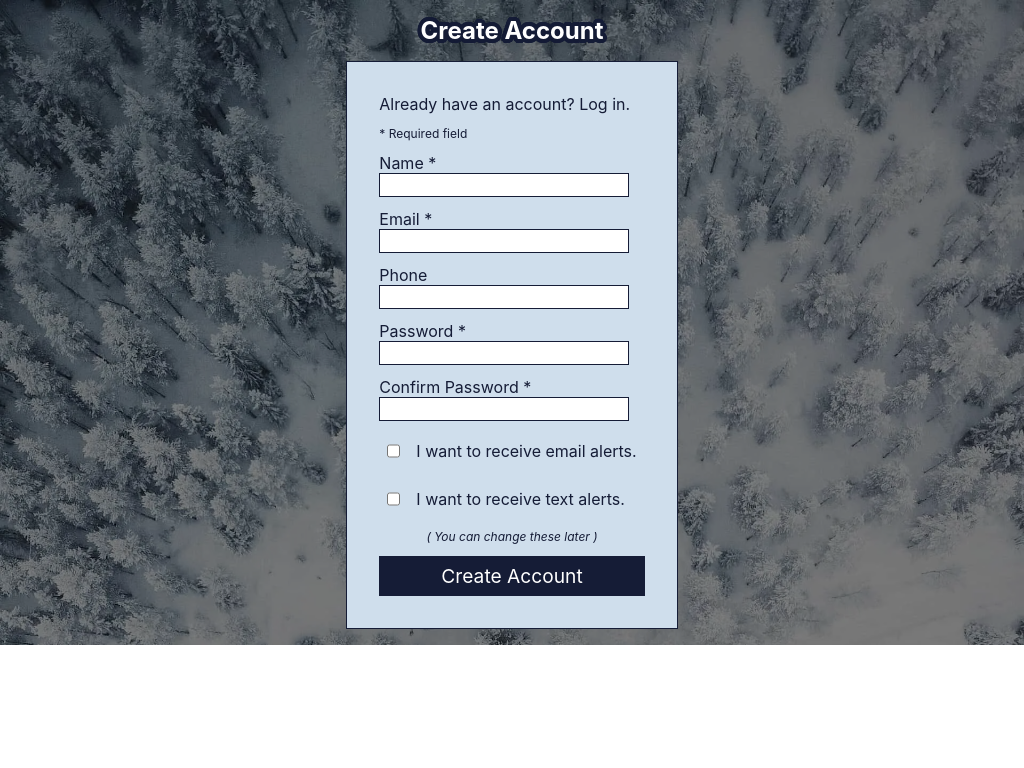
it: Displays name validation error properly
The width and height of the screenshot is (1024, 768).
Expected: the text "Enter your first name." is not shown
Click the field labelled "Name".
click(504, 185)  # box [379,173,629,197]
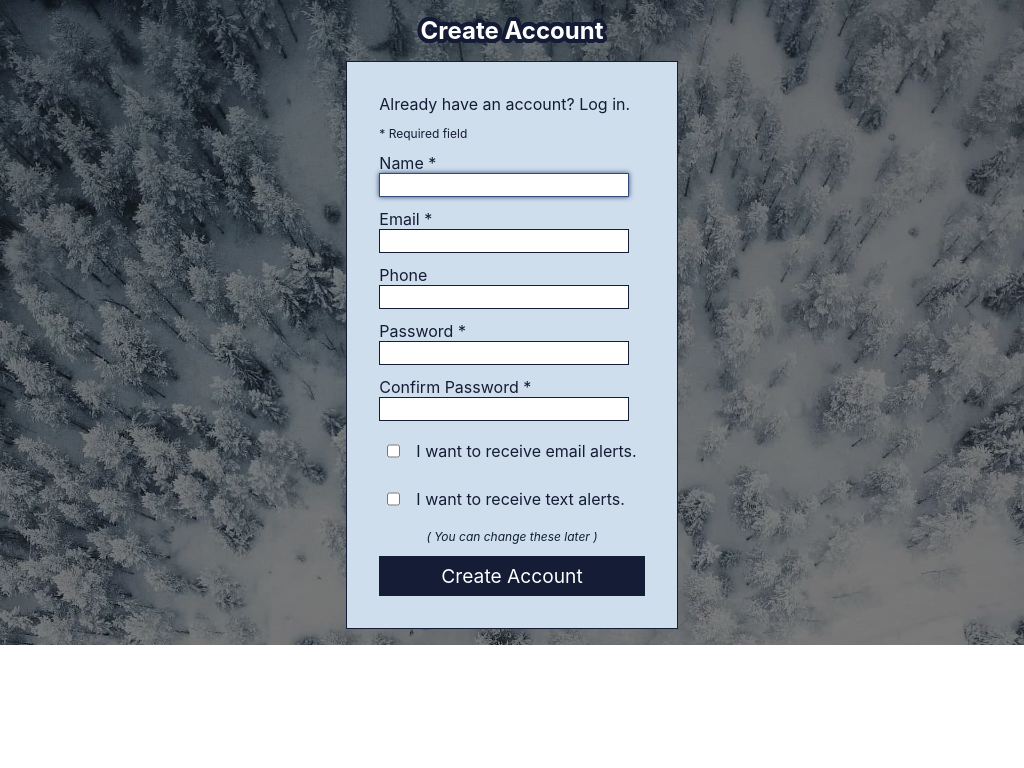
Click the element that starts with "Create Account".
click(512, 384)  # box [0,0,1023,767]
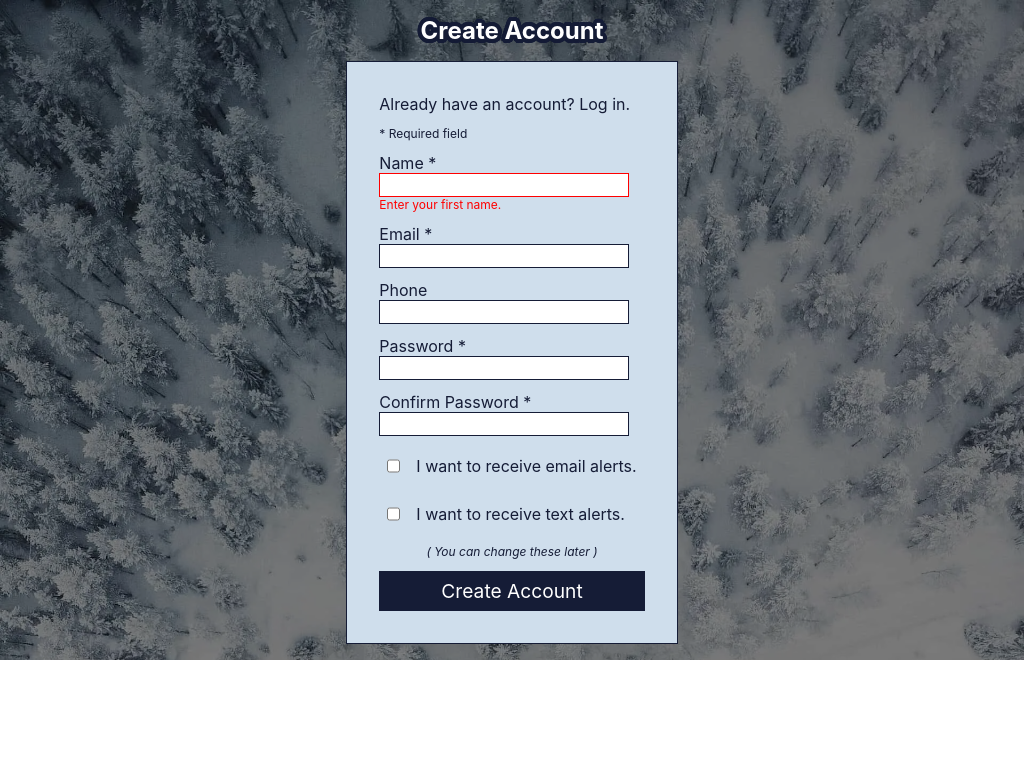
Result: the text "Enter your first name." is shown at [379,197,501,212]
// Valid name
Type "Test" into the field labelled "Name".
click(504, 185); type("Test")  # box [379,173,629,197]
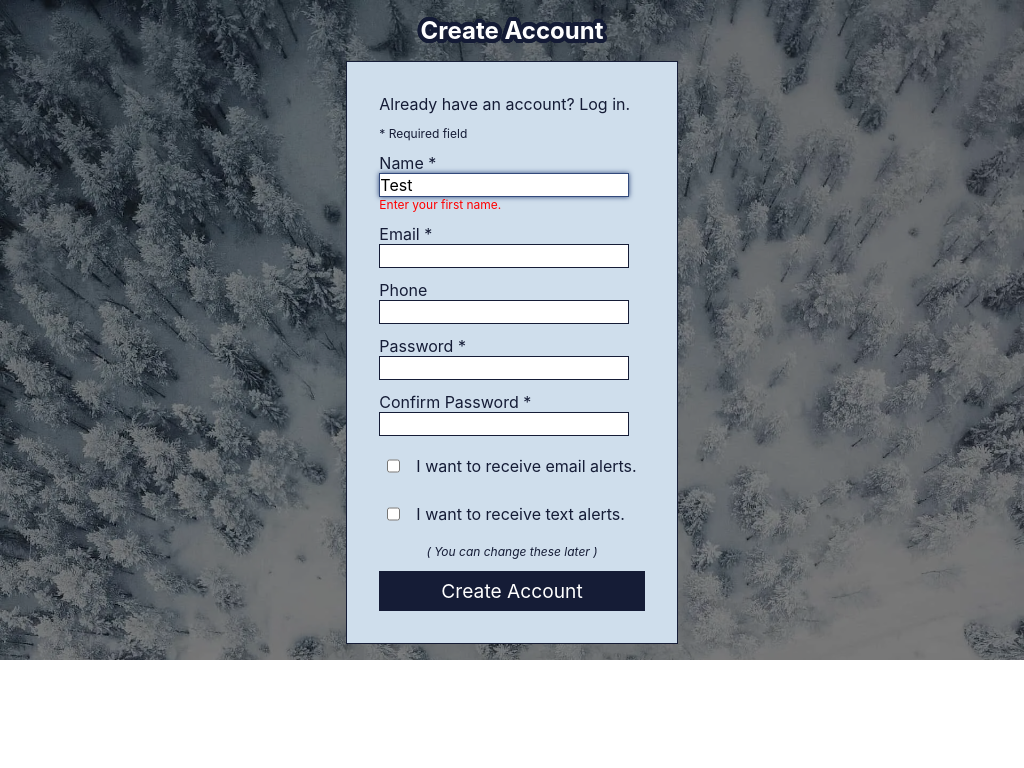
Click the element that starts with "Create Account".
click(512, 384)  # box [0,0,1023,767]
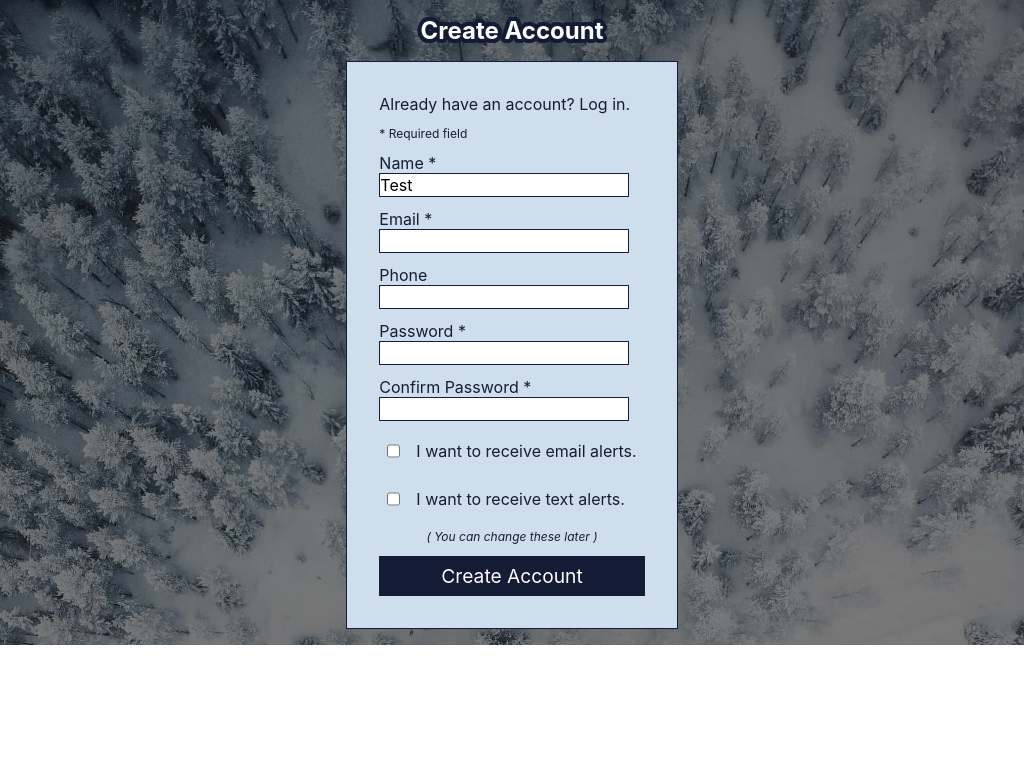
Result: the text "Enter your first name." is gone
